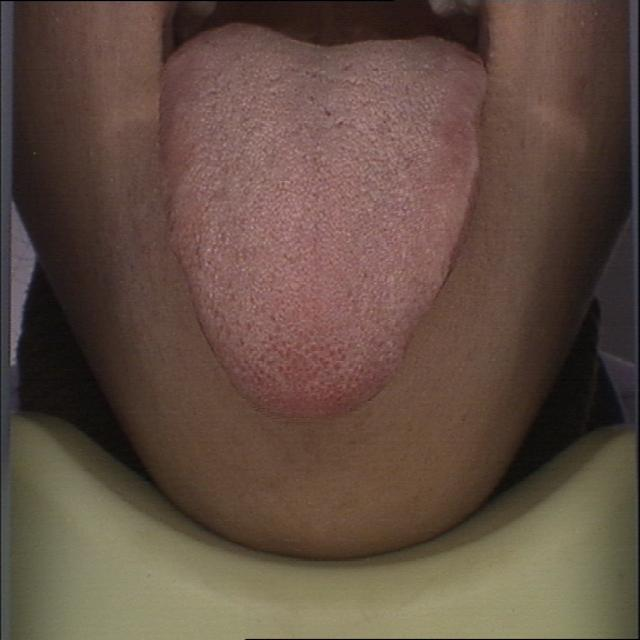tongue: (161, 19, 491, 424)
